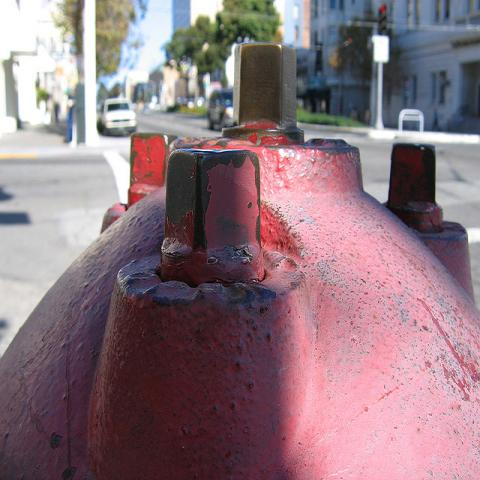car: (96, 98, 137, 135), (207, 90, 234, 130)
